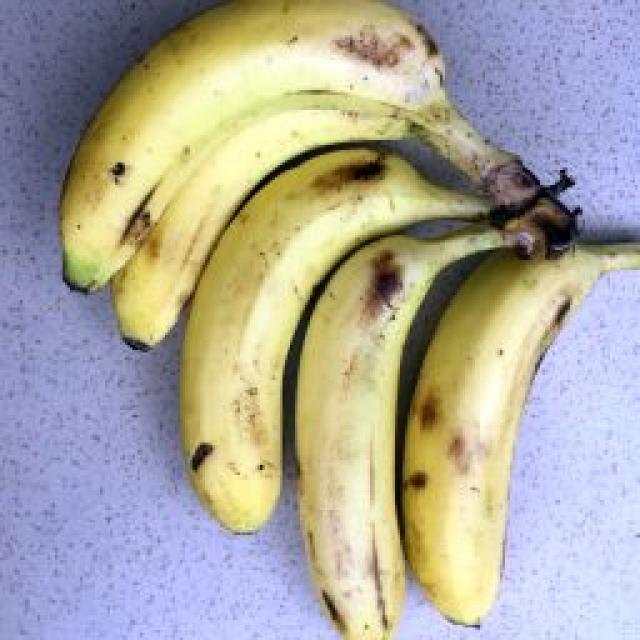banana: (0, 60, 541, 623)
